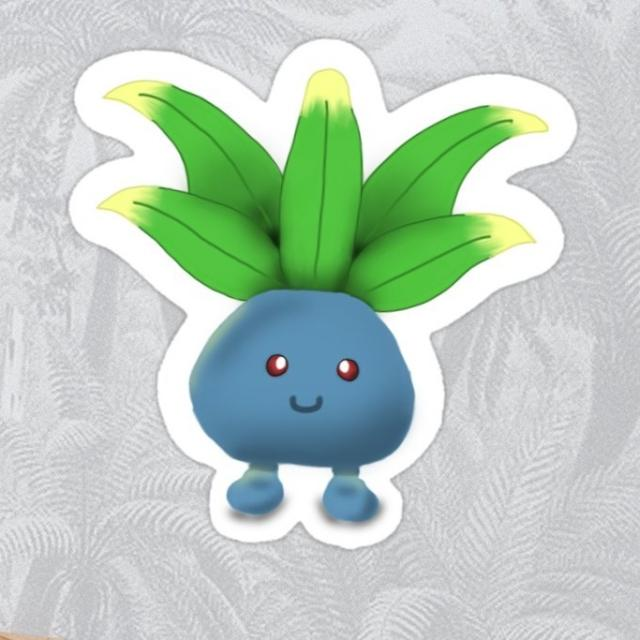Oddish: (176, 63, 440, 553)
